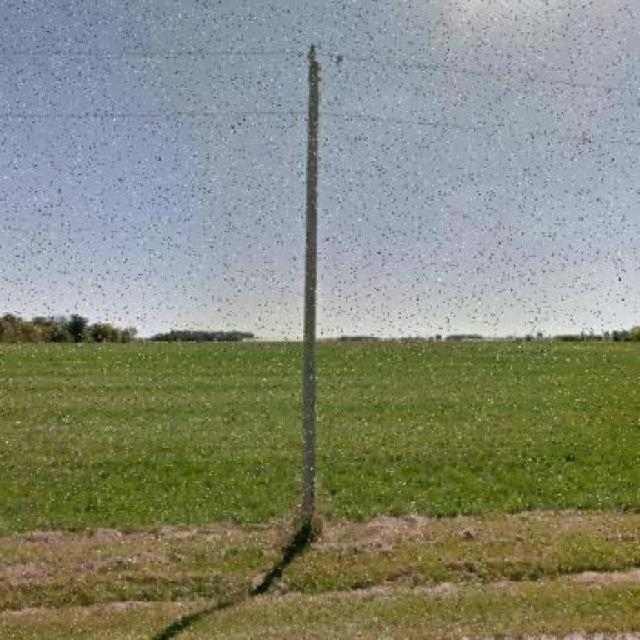pole: (226, 10, 412, 578)
